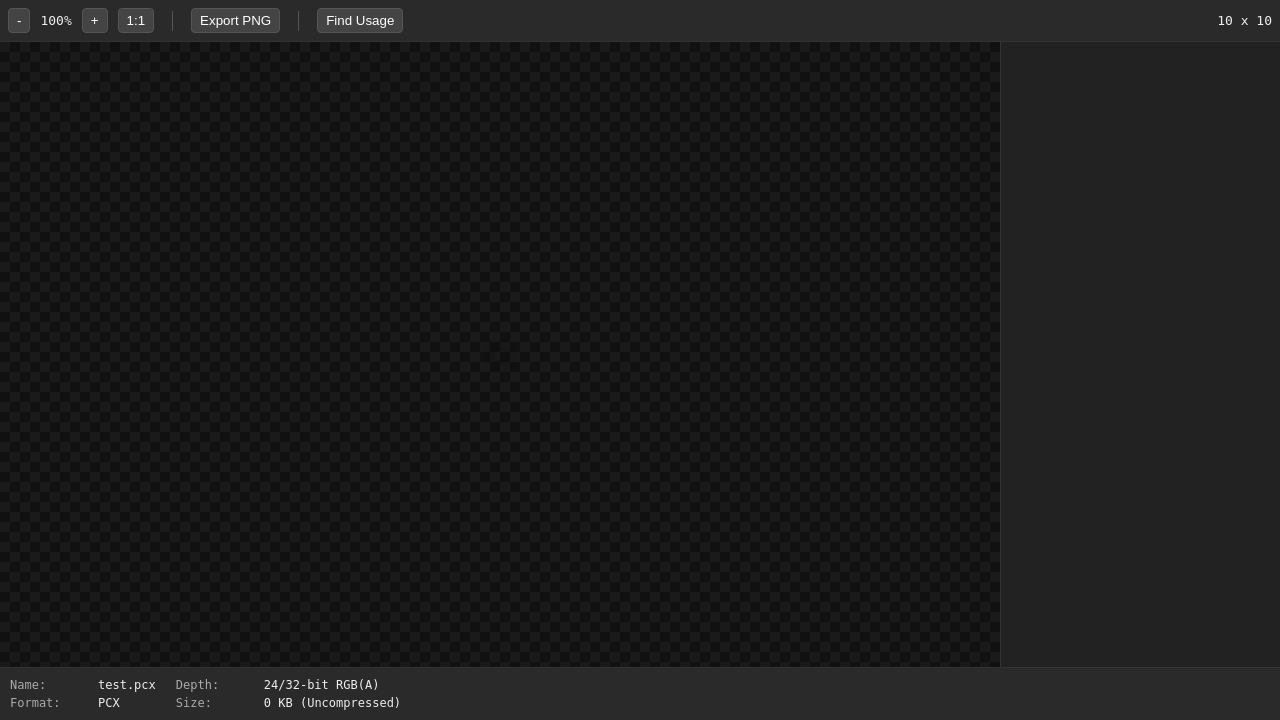
Test: TextureAtlas › handles zoom controls
Click the button named "Zoom In" at (95, 20), box [82,8,108,33]
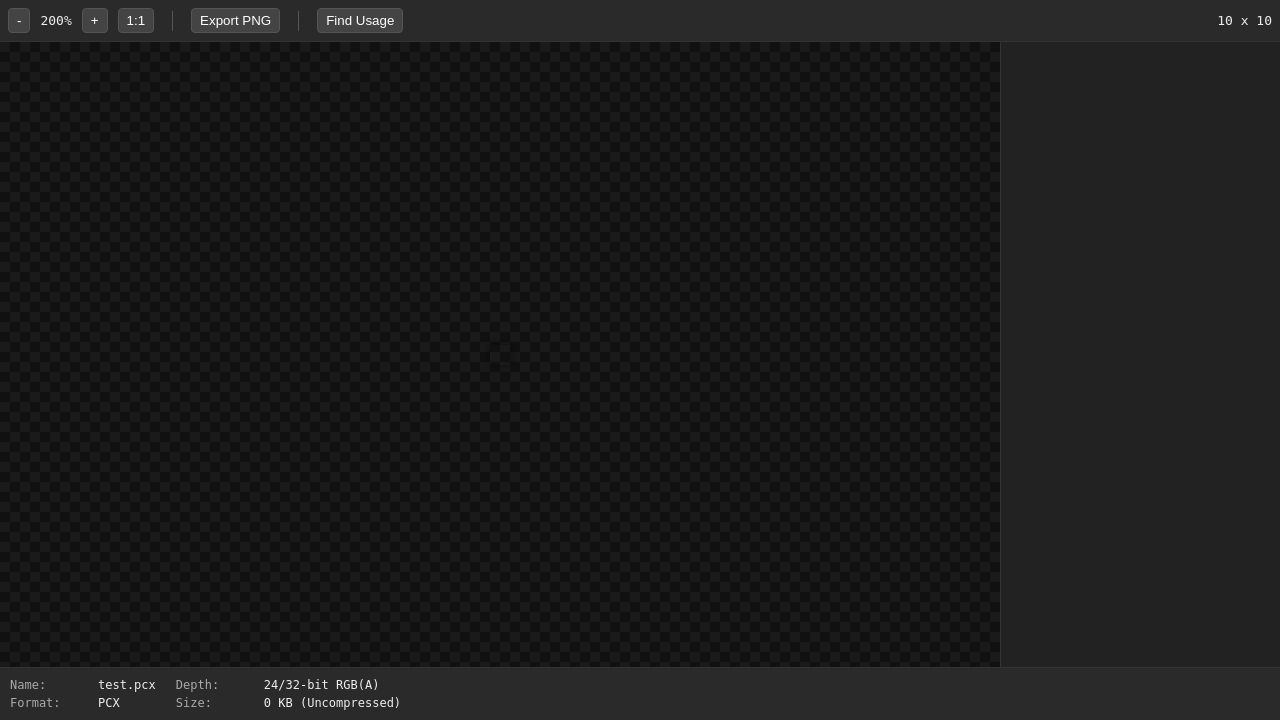
Check: the text "200%" is shown, box [40,13,72,28]
Click the button named "Zoom Out" at (19, 20), box [8,8,30,33]
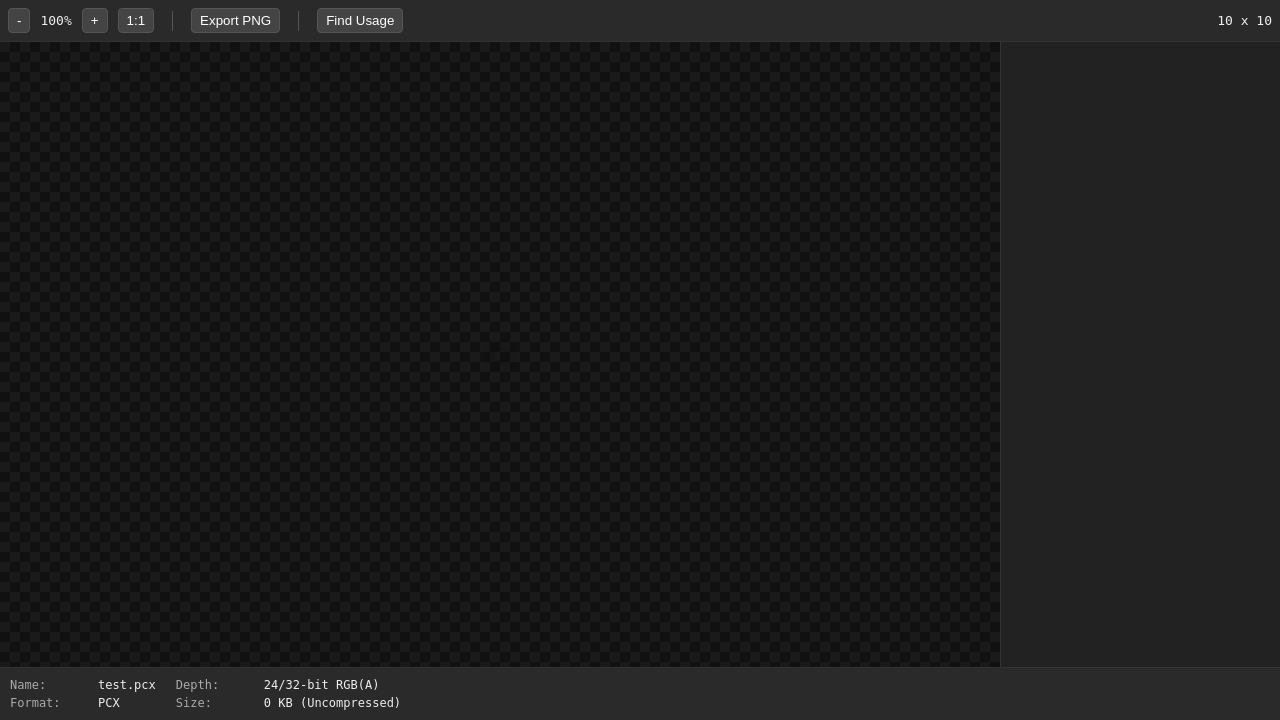
Check: the text "100%" is shown, box [40,13,72,28]
